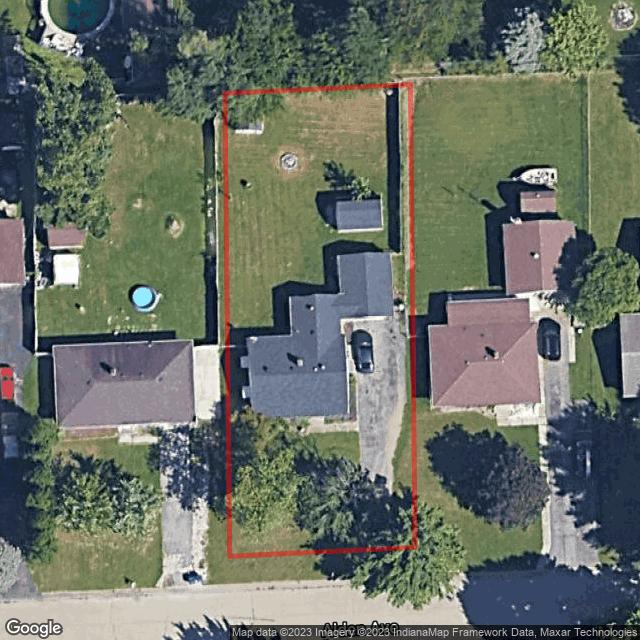Driveway: (306, 315, 406, 547)
Extra Lawn: (228, 553, 351, 583)
House: (241, 252, 394, 419)
Other: (336, 198, 381, 231), (234, 98, 264, 133), (281, 152, 298, 171)
